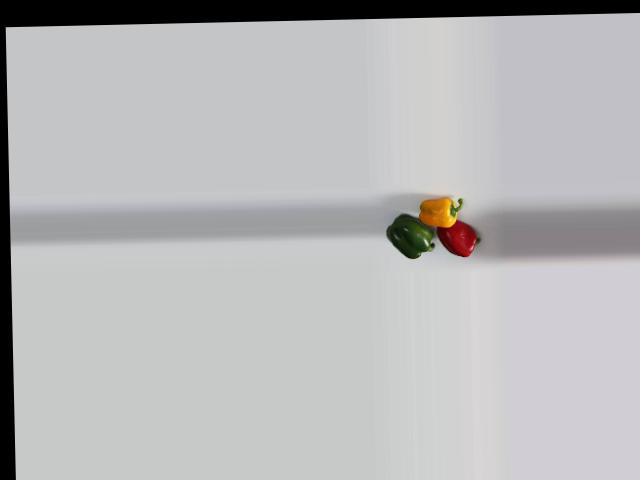bell_pepper: (418, 193, 464, 234)
